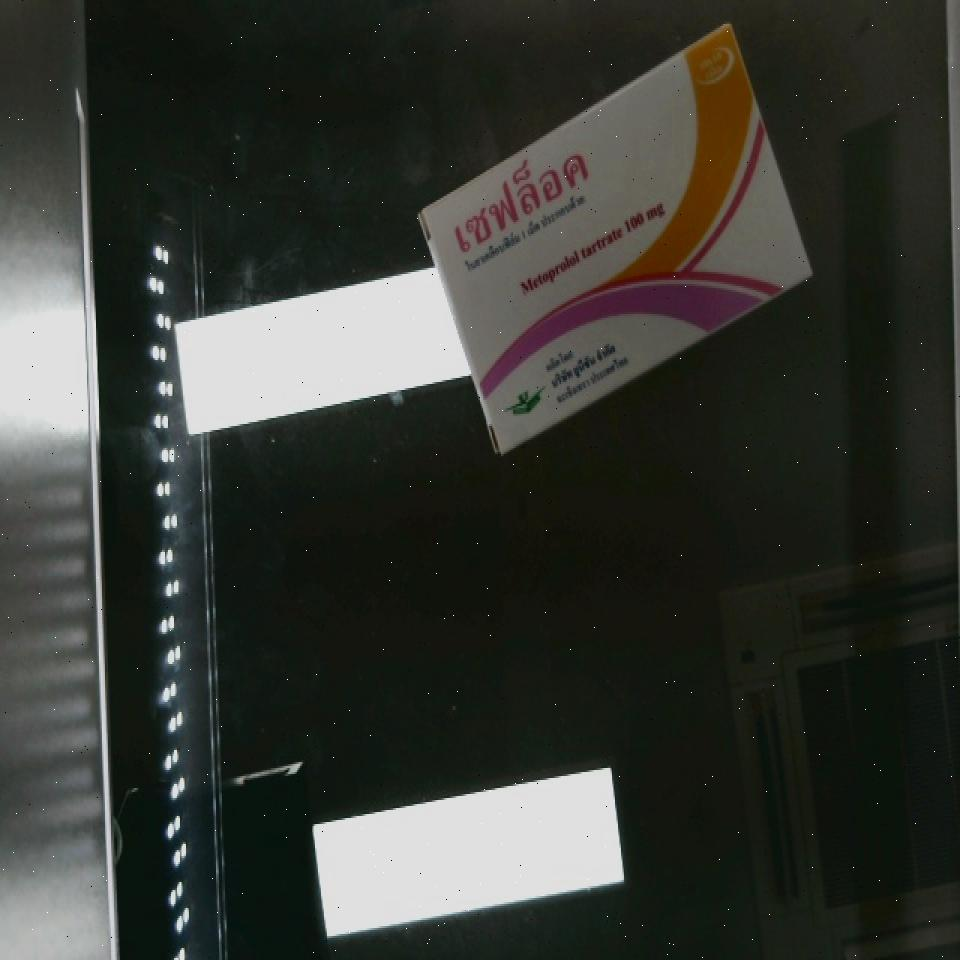medicine_box: (368, 26, 858, 460)
medicine_label_obb: (410, 119, 622, 289)
